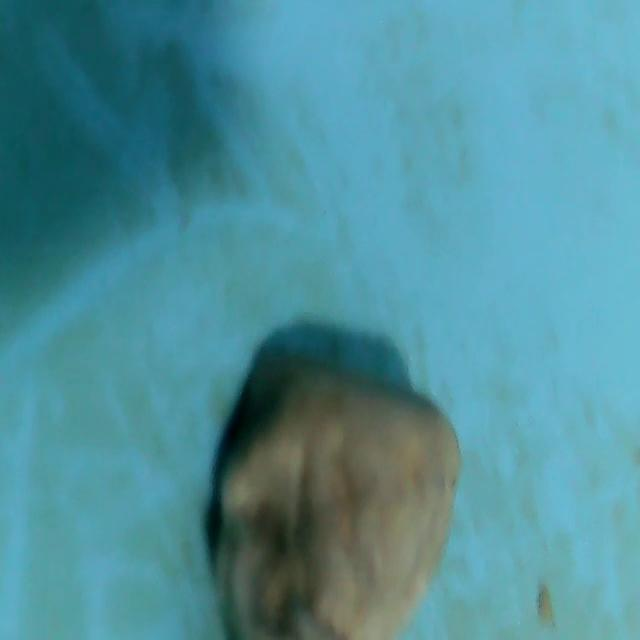rock: (200, 334, 467, 640)
